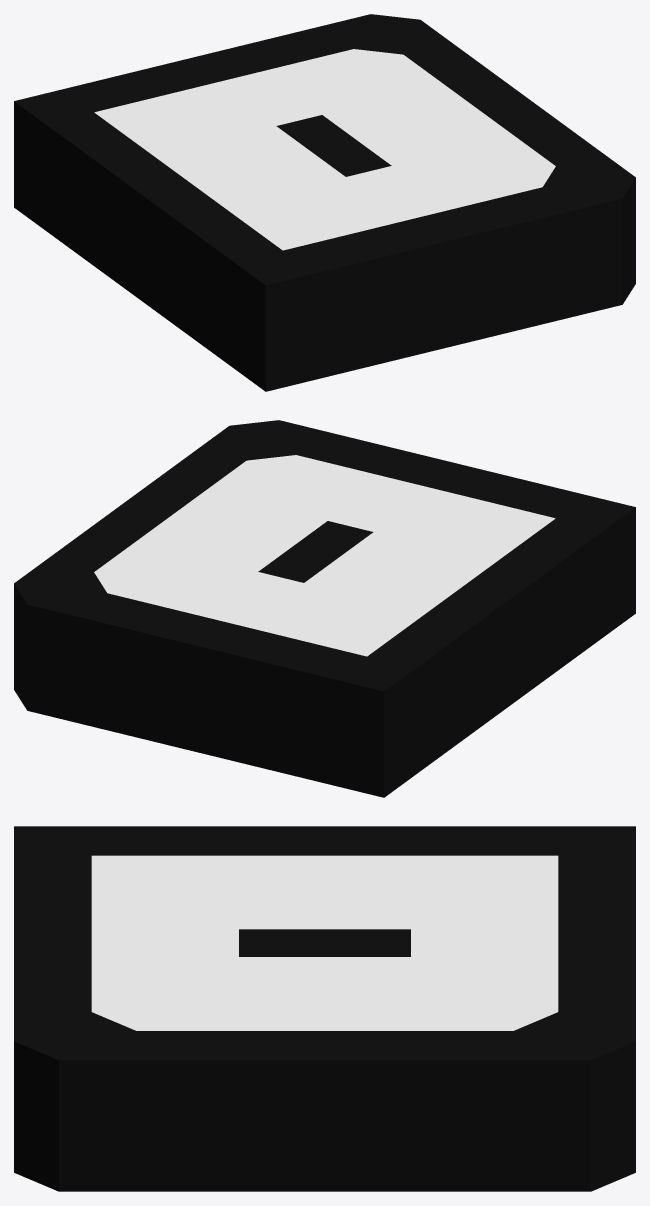
File: Font_Letter_D_01.fbx
3 renders of one model, top to bottom at view 1: azimuth 30°, elevation 25°; view 2: azimuth 150°, elevation 25°; view 3: azimuth 270°, elevation 25°, orthographic. The views are drawn at different scales.
Visible parts, largest first — view 1: Font_Letter_D_01; view 2: Font_Letter_D_01; view 3: Font_Letter_D_01.
Part boxes in pixels (bbox=[...]): Font_Letter_D_01: bbox=[14, 14, 635, 391]; Font_Letter_D_01: bbox=[14, 420, 635, 797]; Font_Letter_D_01: bbox=[14, 826, 635, 1191].
Bounding box in the file's own units: 74.41 × 19.48 × 83.57.
